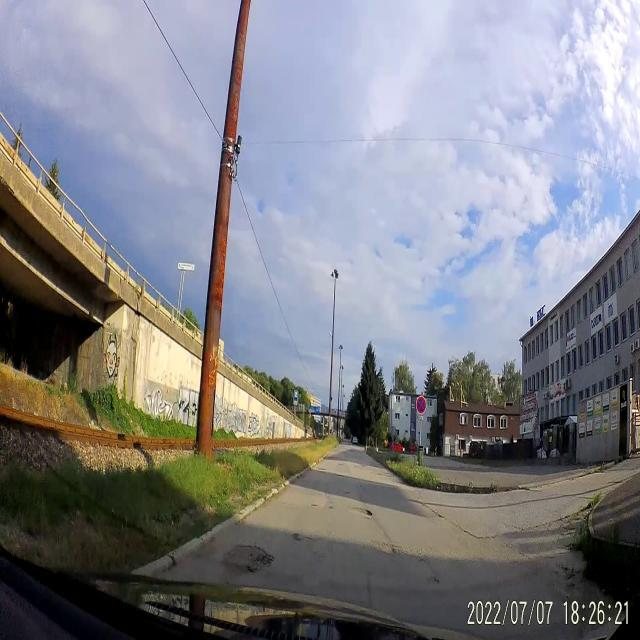Pothole: (219, 532, 276, 586), (351, 496, 375, 524), (290, 528, 318, 547), (426, 570, 442, 587), (335, 472, 347, 479), (310, 500, 318, 510)
